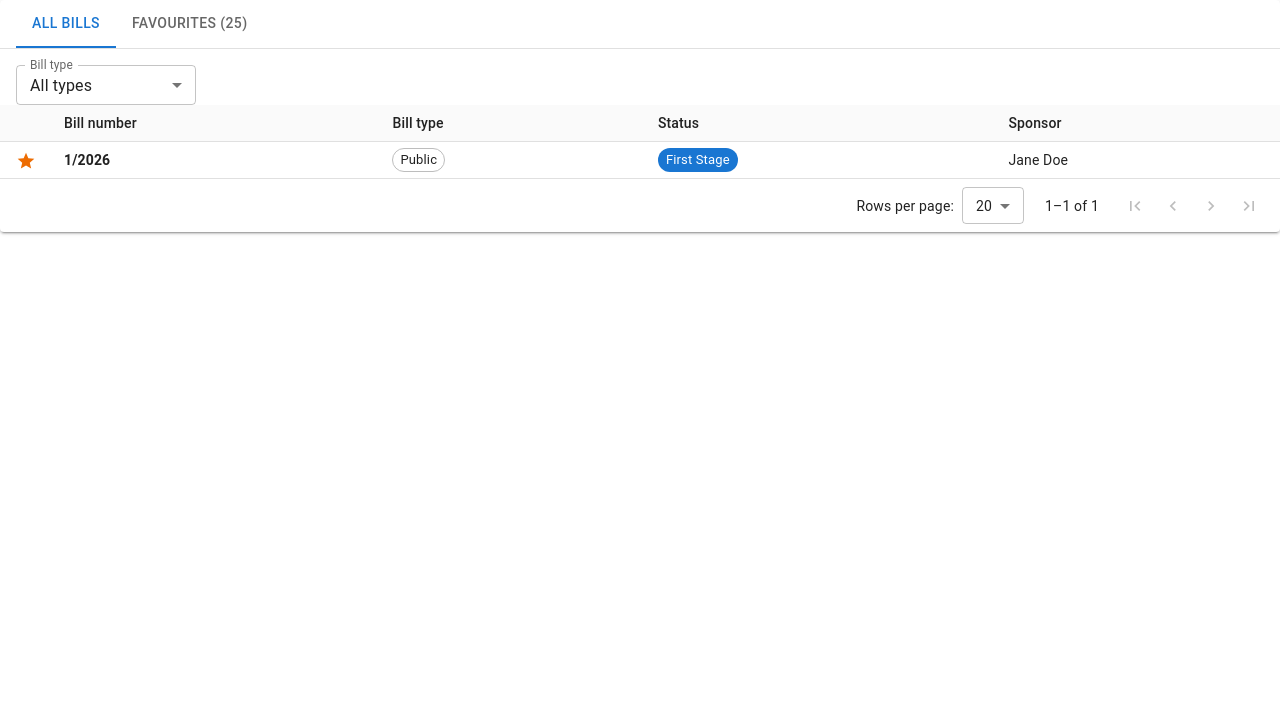
Test: BillsTable › pagination controls › keeps independent pagination state per tab
Click the tab "Favourites (25)". click: (190, 24)
box: left=116, top=0, right=264, bottom=48
(page scrolled)
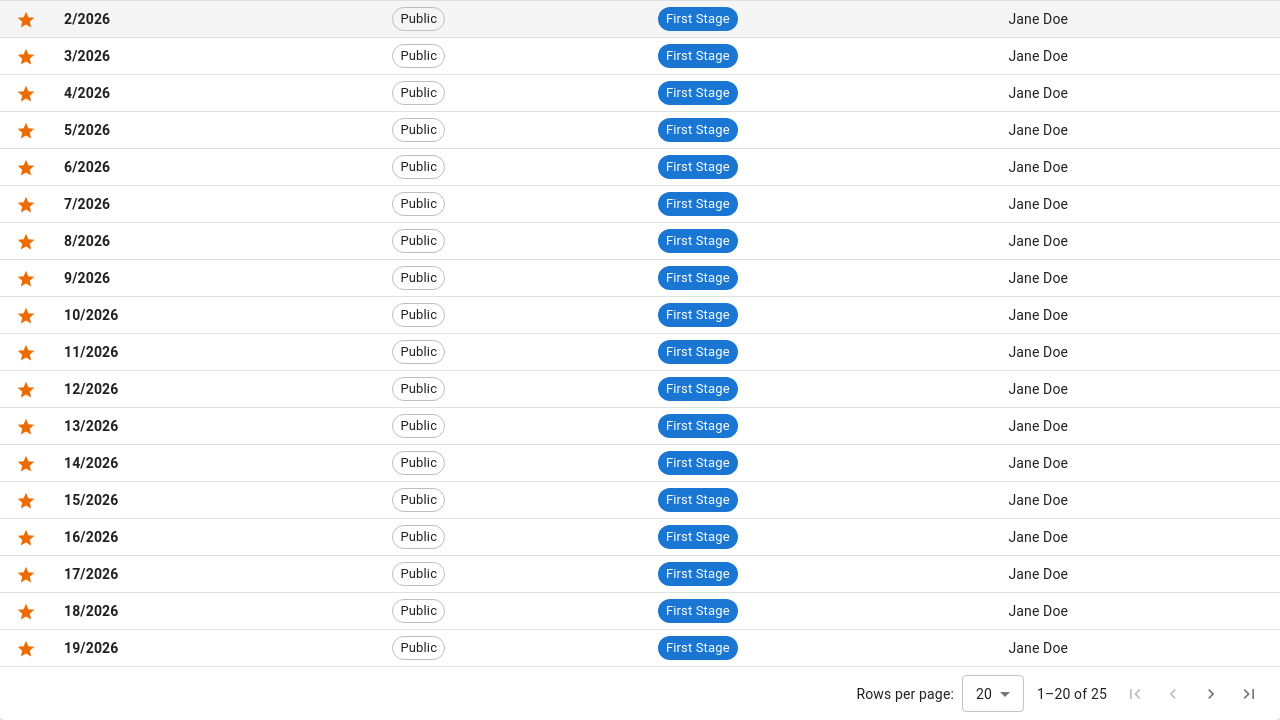
Expected: the text "1–20 of 25" is shown, left=1032, top=684, right=1112, bottom=704
Click the button named "Next page". click: (1211, 694)
box: left=1196, top=679, right=1226, bottom=709
(page scrolled)
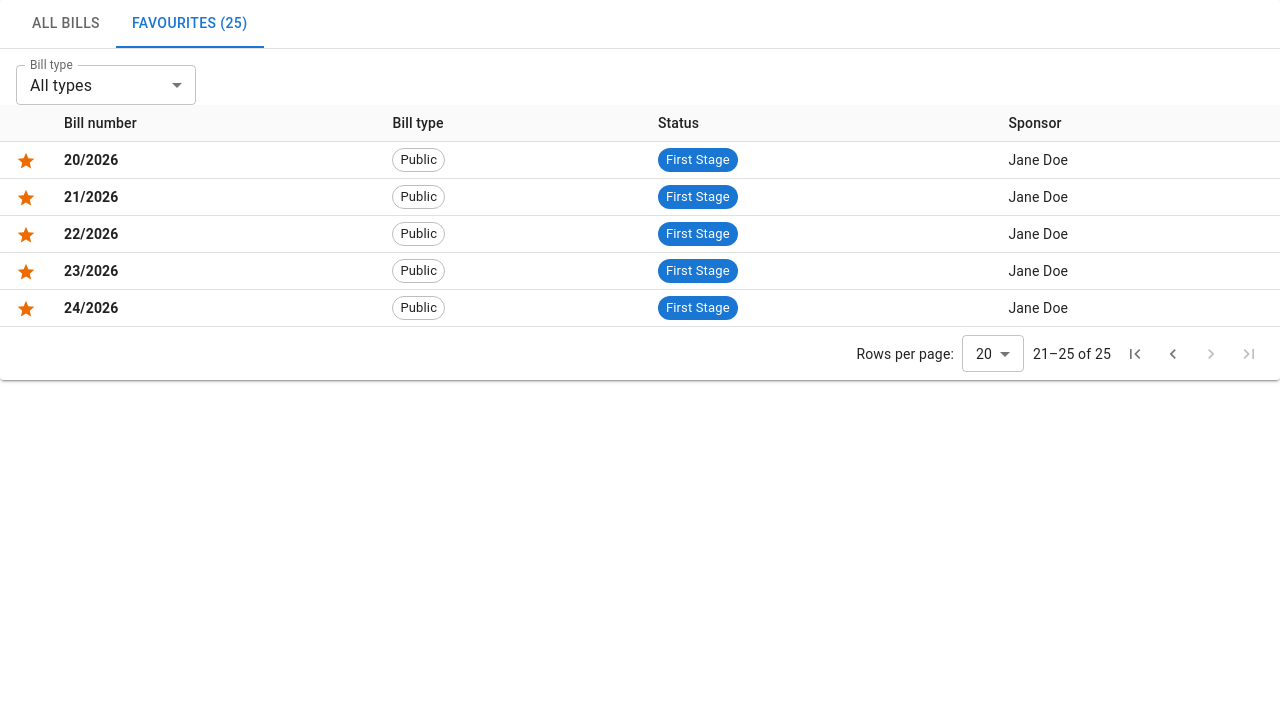
Expected: the text "21–25 of 25" is shown, left=1032, top=344, right=1112, bottom=364
Click the tab "All Bills". click: (66, 24)
box: left=16, top=0, right=116, bottom=48
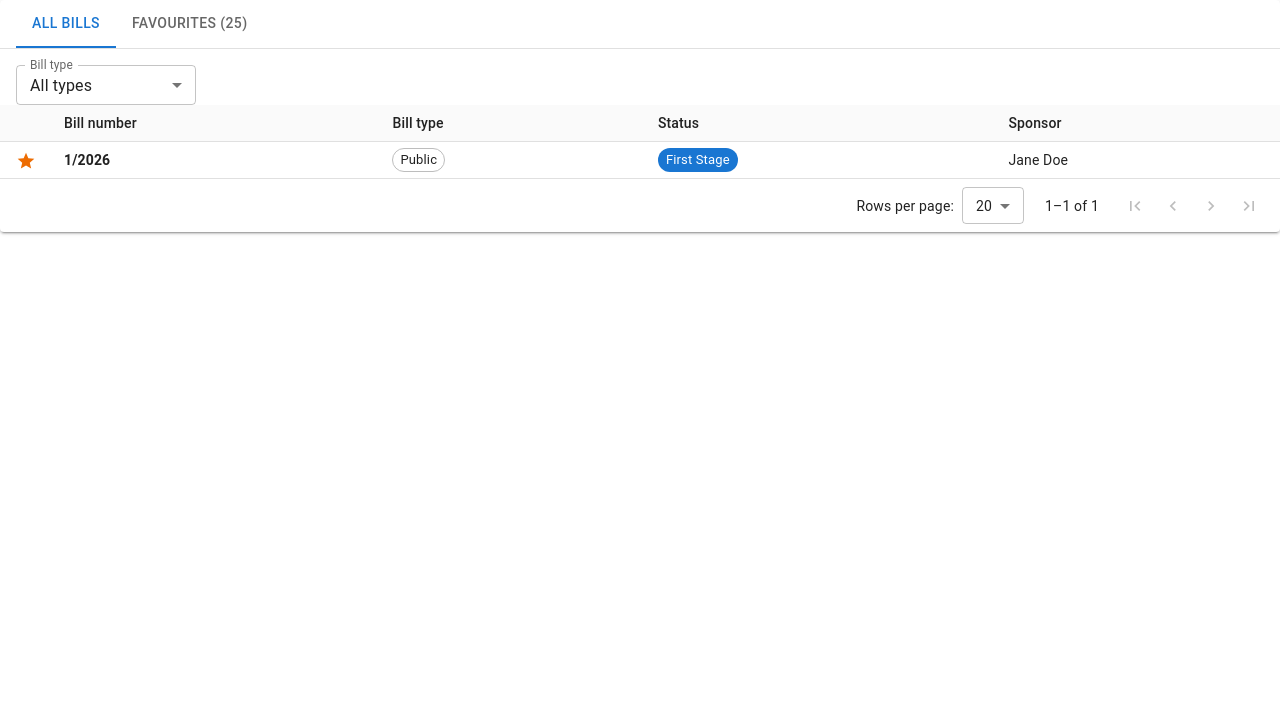
Click the tab "Favourites (25)". click: (190, 24)
box: left=116, top=0, right=264, bottom=48
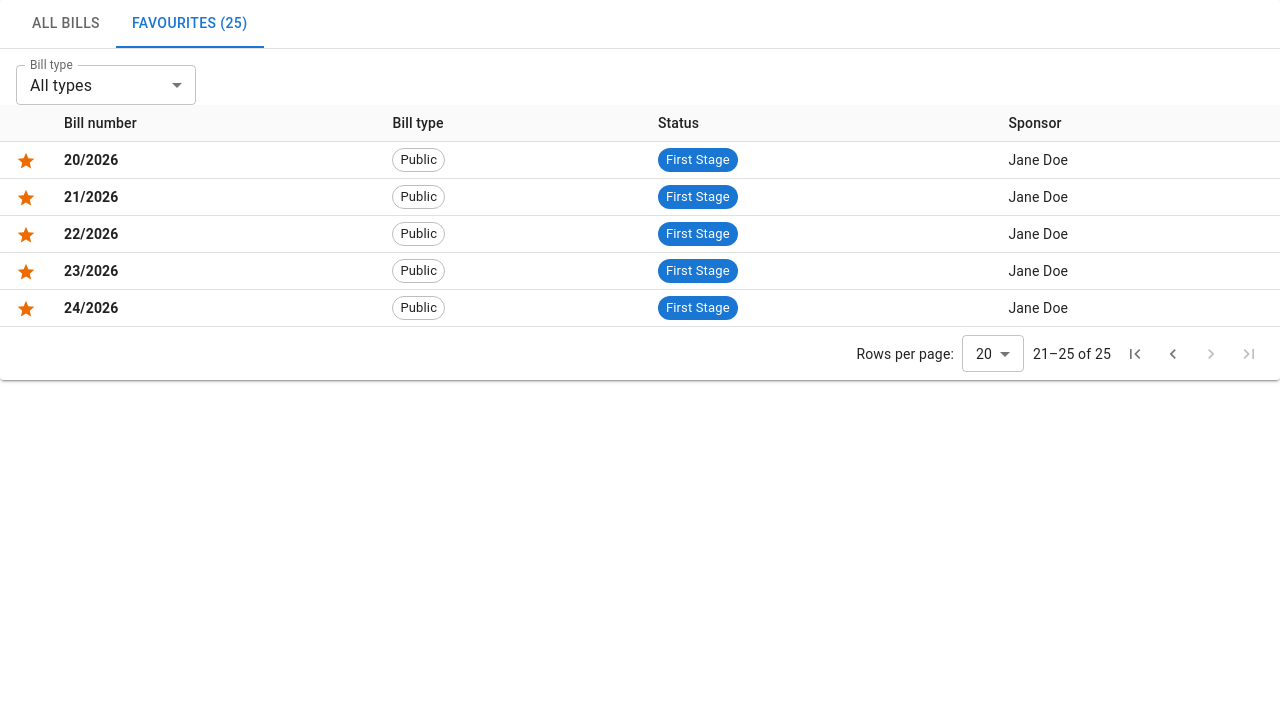
Expected: the text "21–25 of 25" is shown, left=1032, top=344, right=1112, bottom=364
